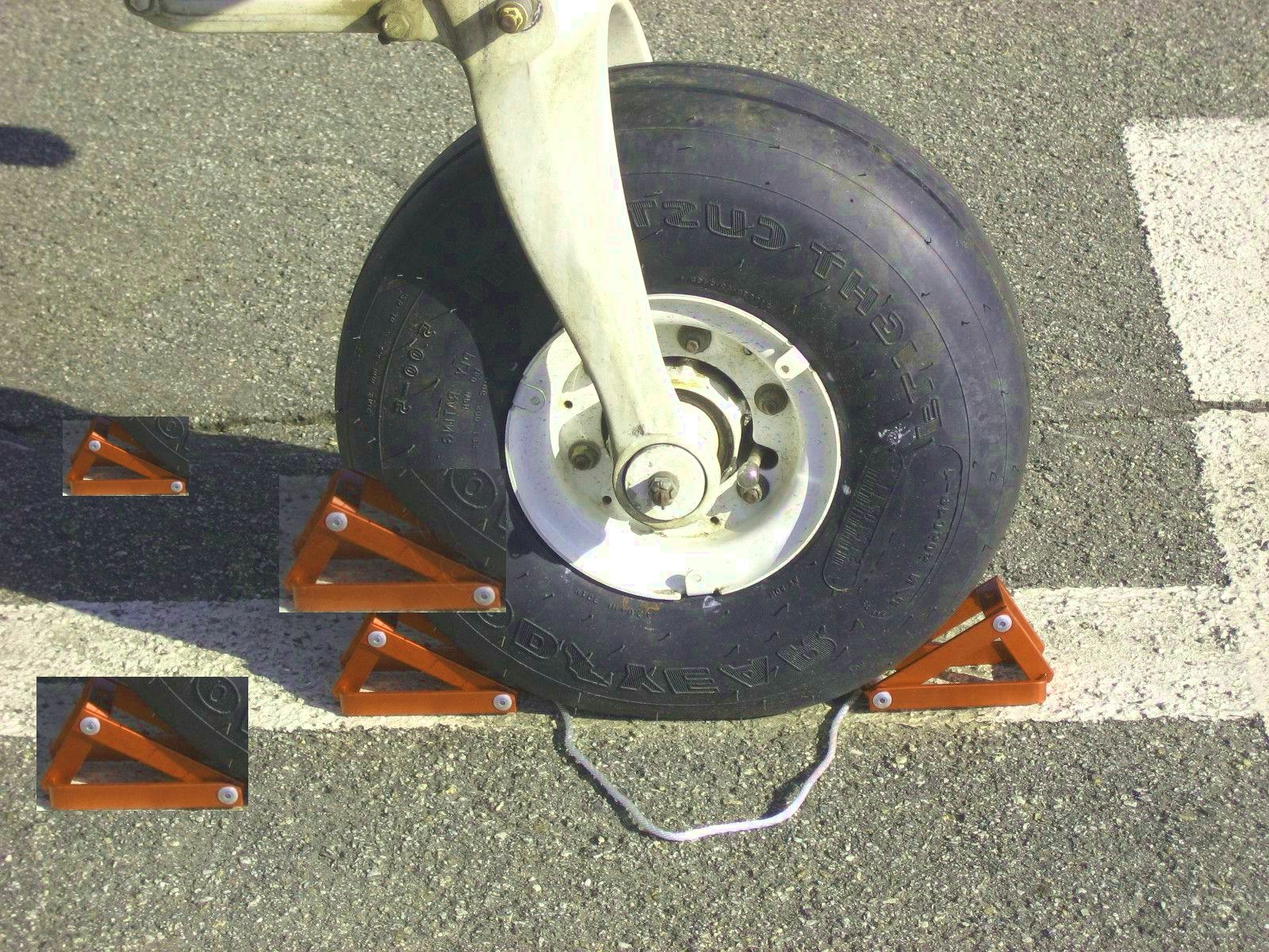chock: (279, 469, 506, 612), (36, 677, 248, 811), (863, 576, 1060, 712), (328, 594, 521, 716), (63, 417, 189, 496)
wheel: (357, 63, 1029, 704)
